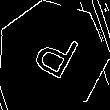P_SW: (24, 25, 81, 86)
